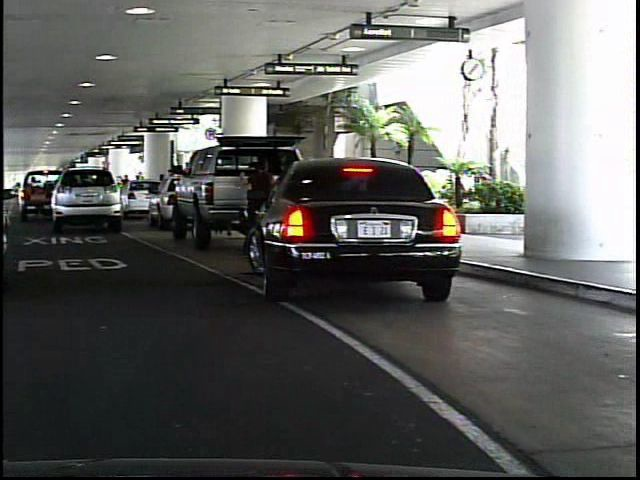person: (235, 150, 286, 254)
